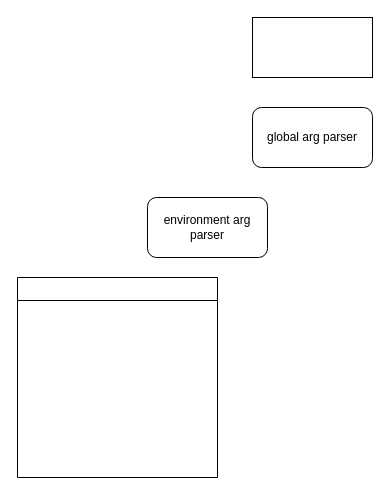
Image size: 390x495. Some labels were removed from this diagram. Here are the shapes that lost their labels. From the top down, the centre of each, then its label:
(312,47): Entrypoint
(117,377): environment command group
